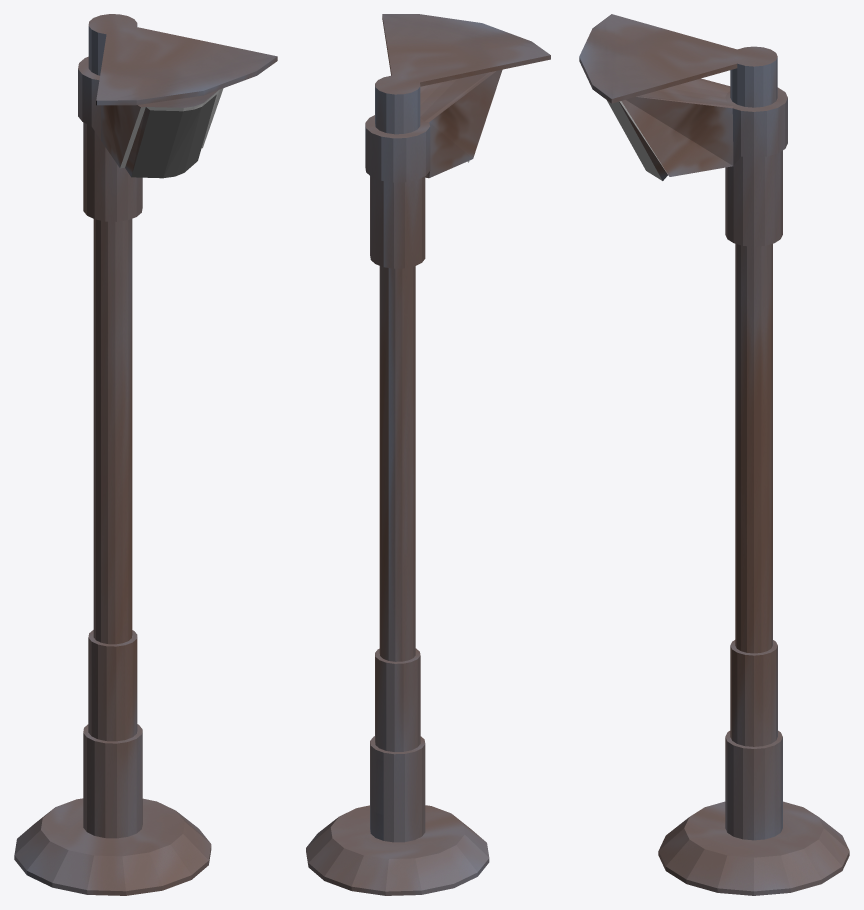
Rendered from streetLamp.obj.
3 views of the same model, side by side, from view 1: azimuth 30°, elevation 25°; view 2: azimuth 150°, elevation 25°; view 3: azimuth 270°, elevation 25° (orthographic). The views are drawn at different scales.
Visible parts, largest first — view 1: streetLamp; view 2: streetLamp; view 3: streetLamp.
Part boxes in pixels (x1,y1,x2,y2): streetLamp: [14, 14, 277, 895]; streetLamp: [306, 14, 550, 895]; streetLamp: [579, 14, 849, 895].
Size of the model in its own units: 15.74 by 68.9 by 21.14.
